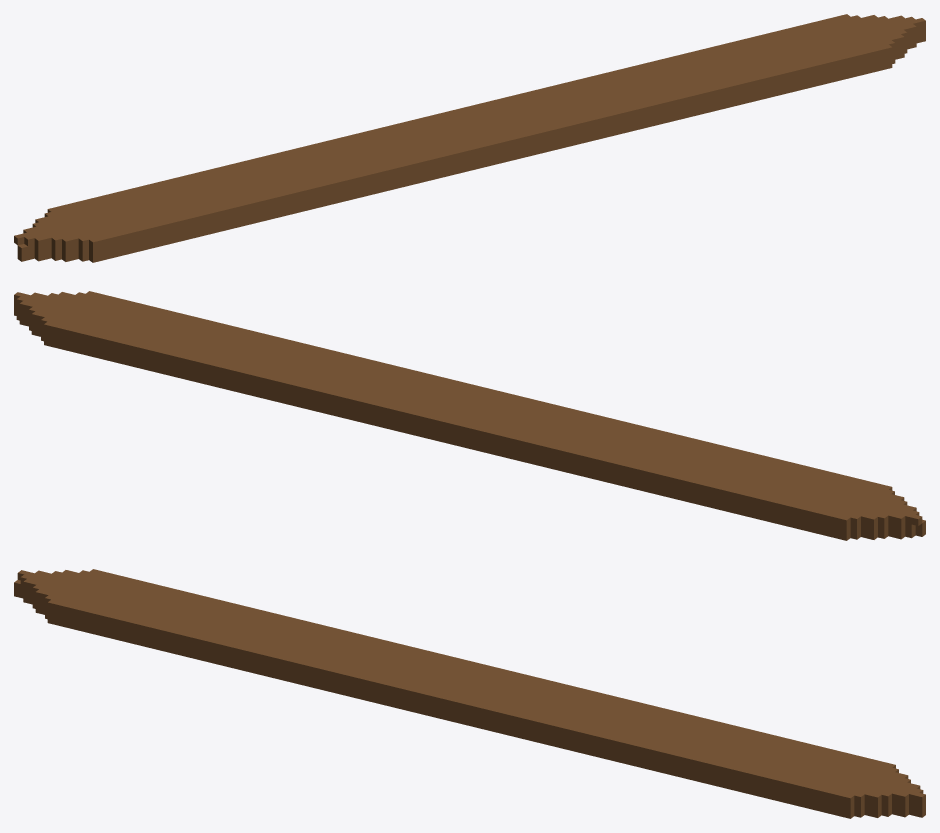
File: shed_stick.glb
The picture shows the model from 3 angles, top to bottom: view 1: azimuth 30°, elevation 25°; view 2: azimuth 150°, elevation 25°; view 3: azimuth 330°, elevation 25°; orthographic projection.
Parts seen in each view (by area): view 1: shed_stick:compound; view 2: shed_stick:compound; view 3: shed_stick:compound.
Part boxes in pixels (<box>): shed_stick:compound: <box>14,14,925,262</box>; shed_stick:compound: <box>14,291,925,540</box>; shed_stick:compound: <box>14,569,925,818</box>.
Size of the model in its own units: 0.552 by 0.012 by 0.048.
